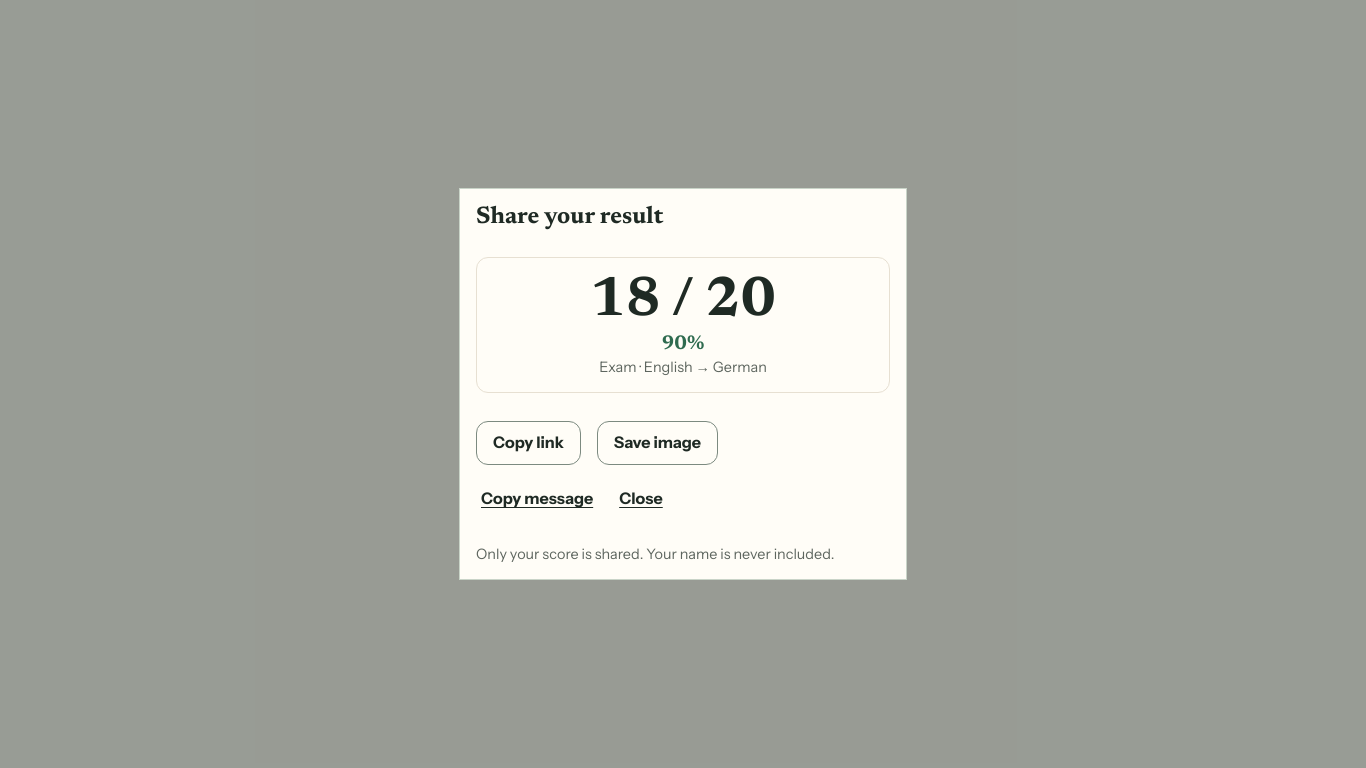
Test: ShareResultDialog › falls back to copy link when native share is unavailable
This screenshot has width=1366, height=768.
Click the button "Copy link".
click(528, 443)  # box [476,421,581,465]
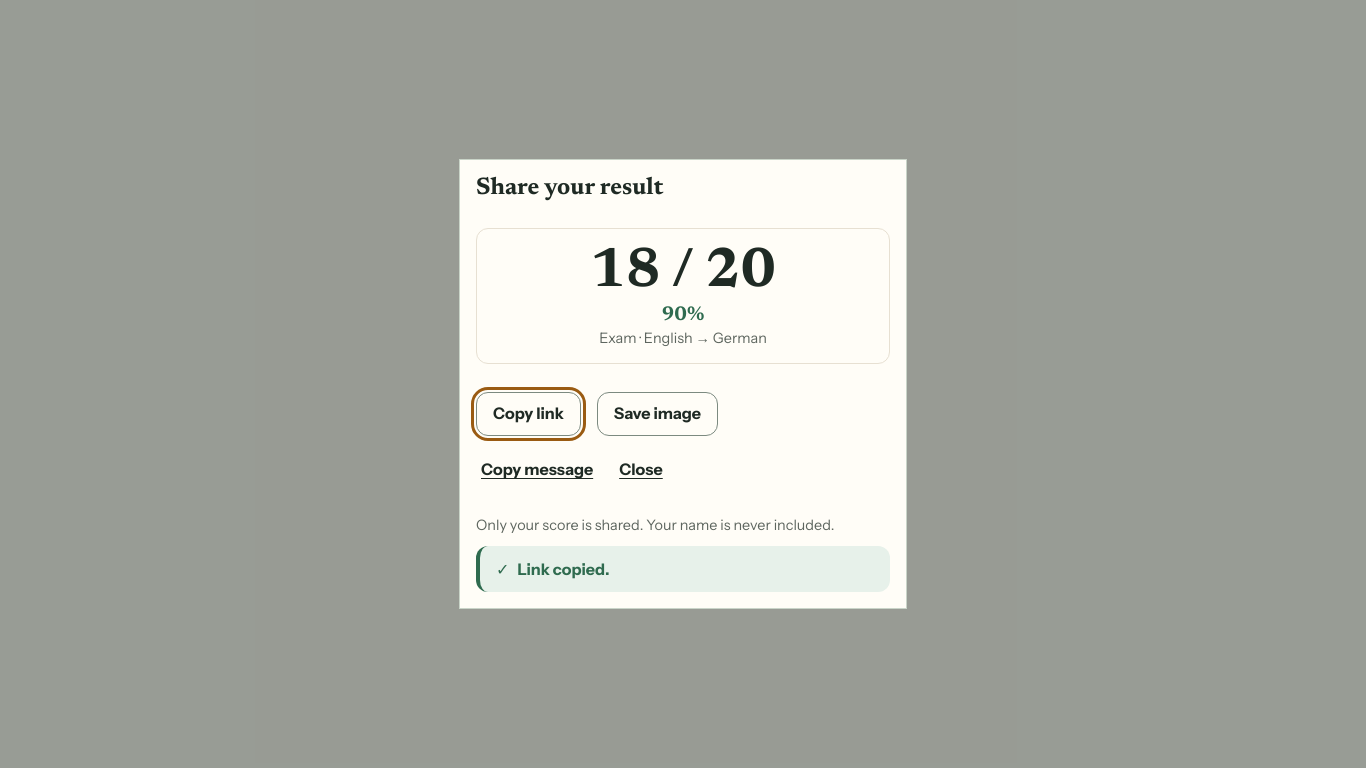
Expected: the text "Link copied." is shown, [517,558,610,580]
